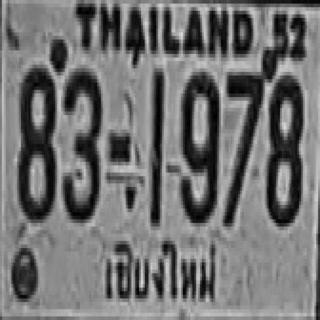N01: (149, 68, 162, 223)
N03: (61, 65, 101, 219)
N07: (221, 68, 263, 223)
N08: (17, 65, 53, 219), (265, 72, 301, 223)
N09: (179, 68, 217, 219)
P11: (97, 232, 222, 308)
